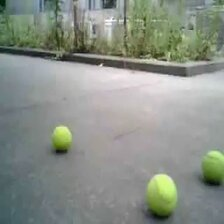tennis: (147, 172, 176, 213), (200, 150, 223, 181), (52, 126, 73, 150)
